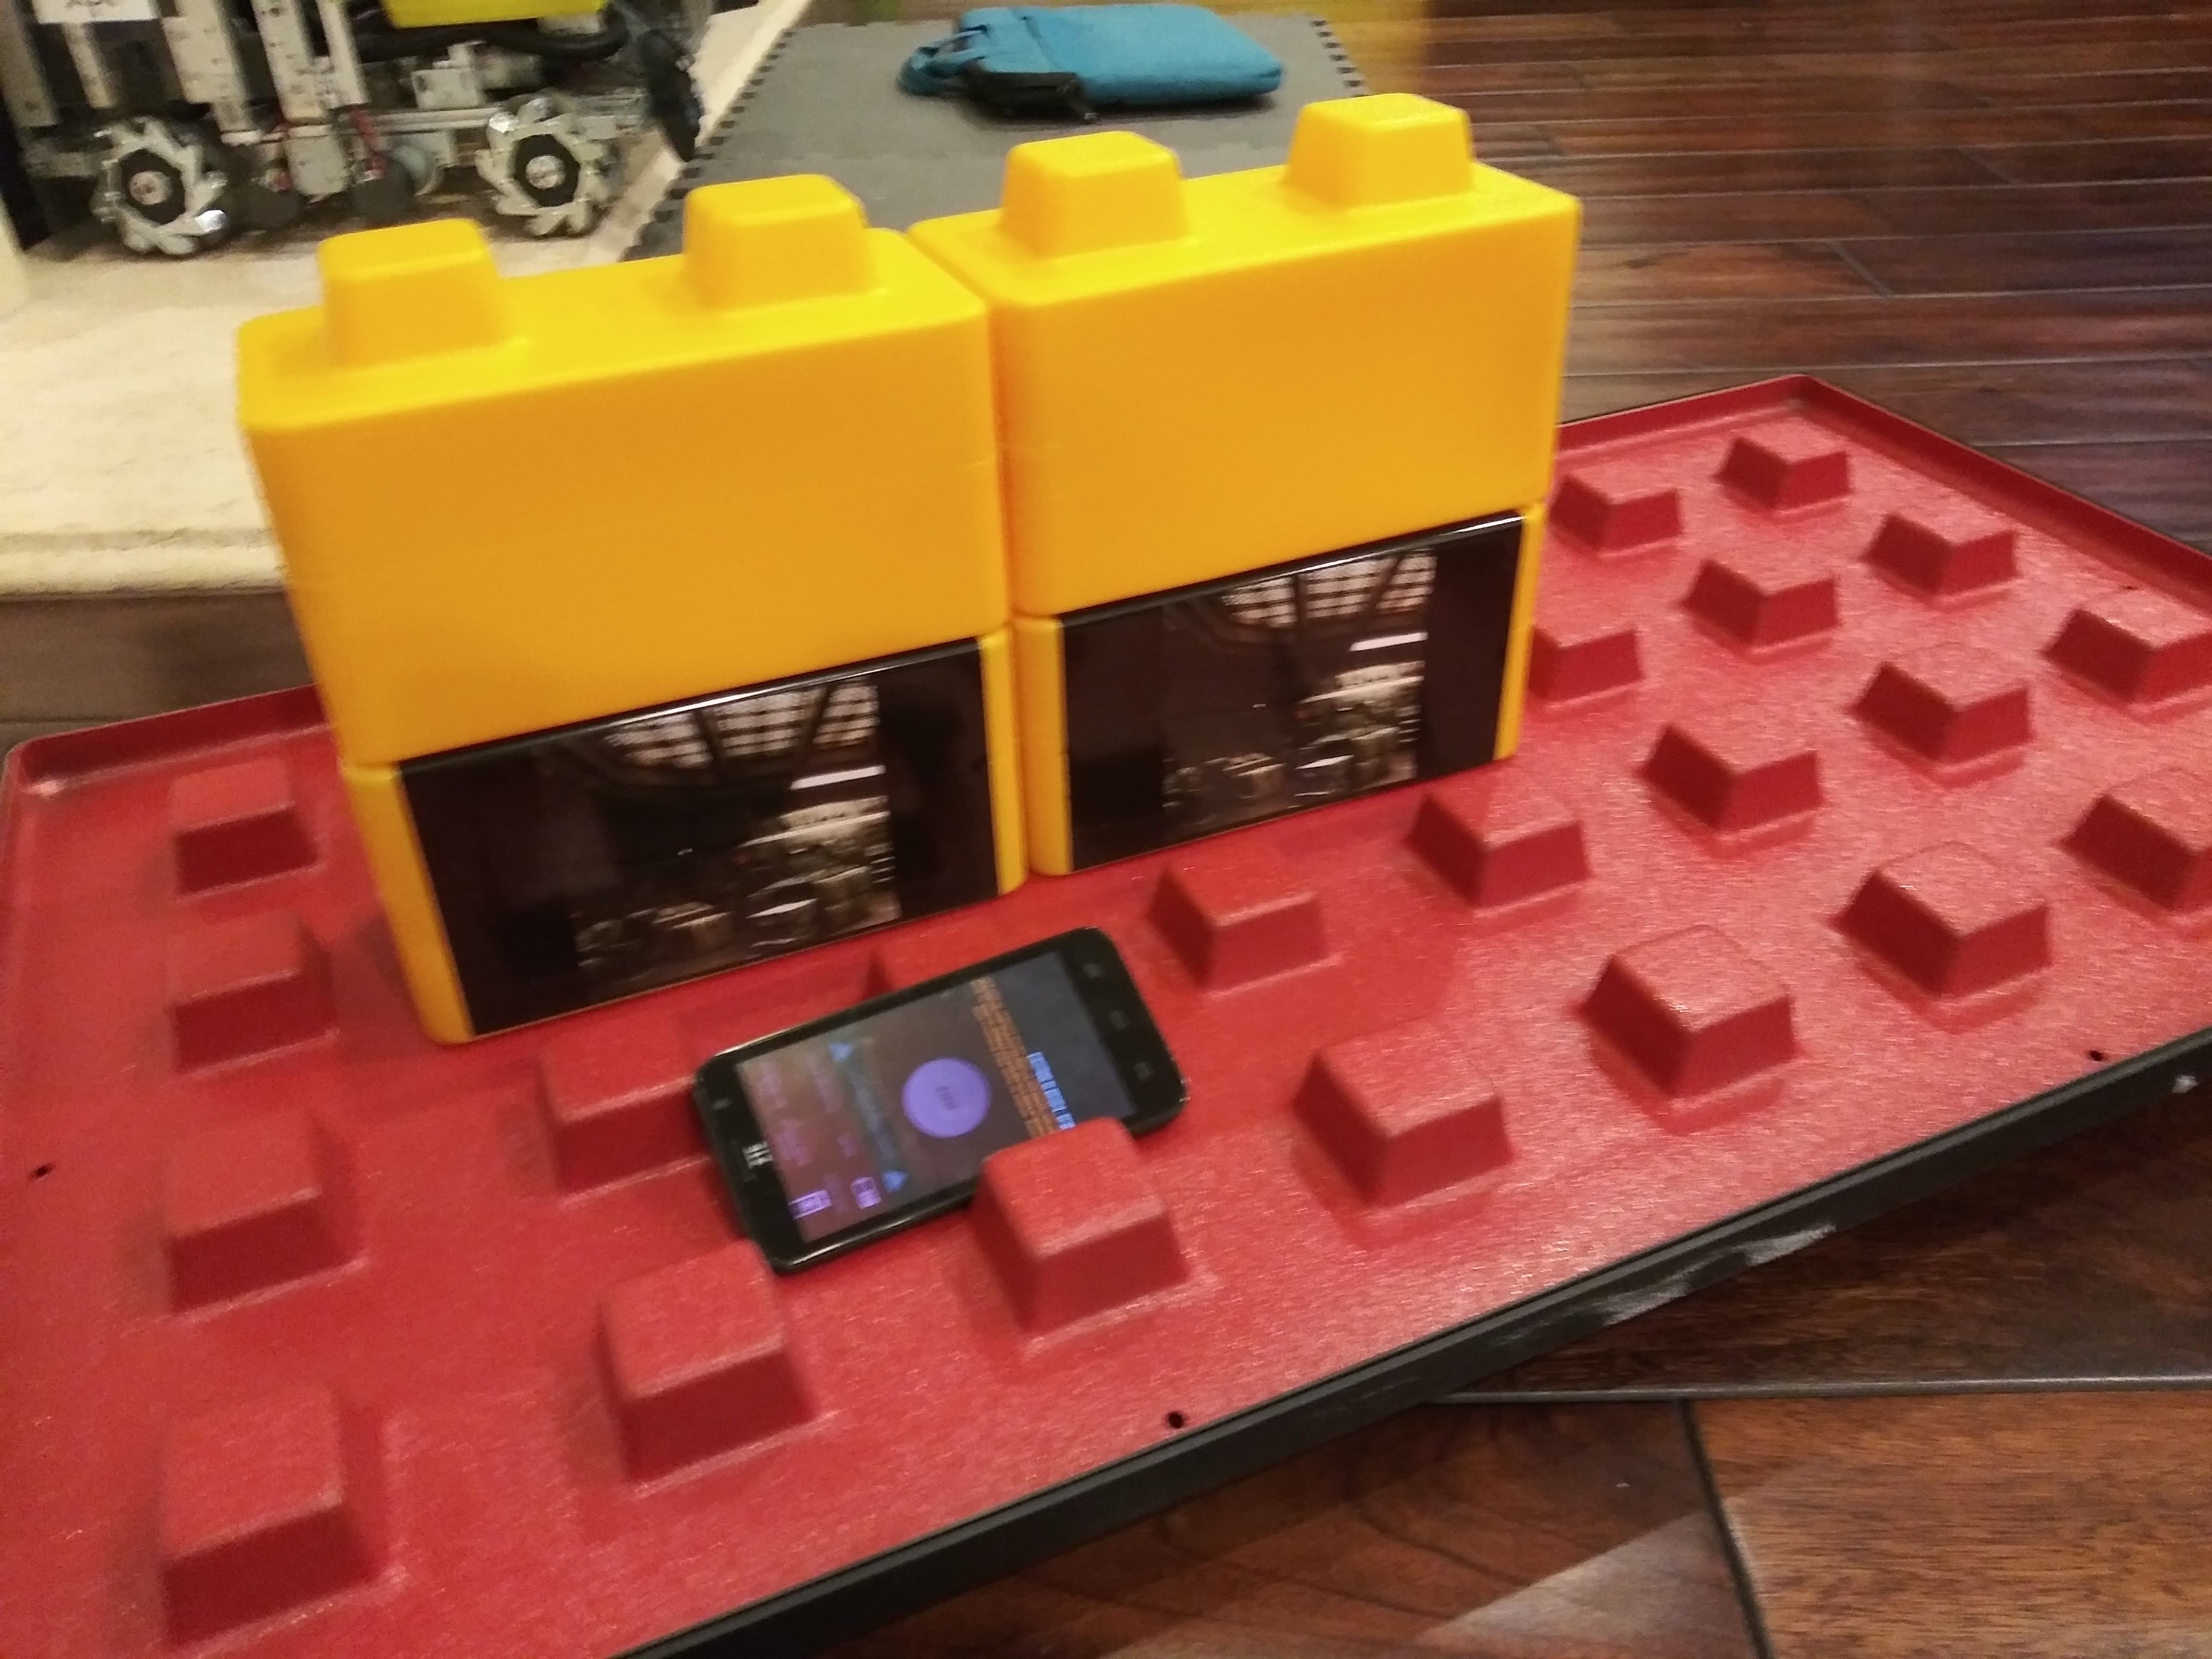skystone: (361, 741, 1033, 995), (1040, 580, 1571, 856)
stone: (235, 295, 984, 645), (1001, 204, 1580, 507)
